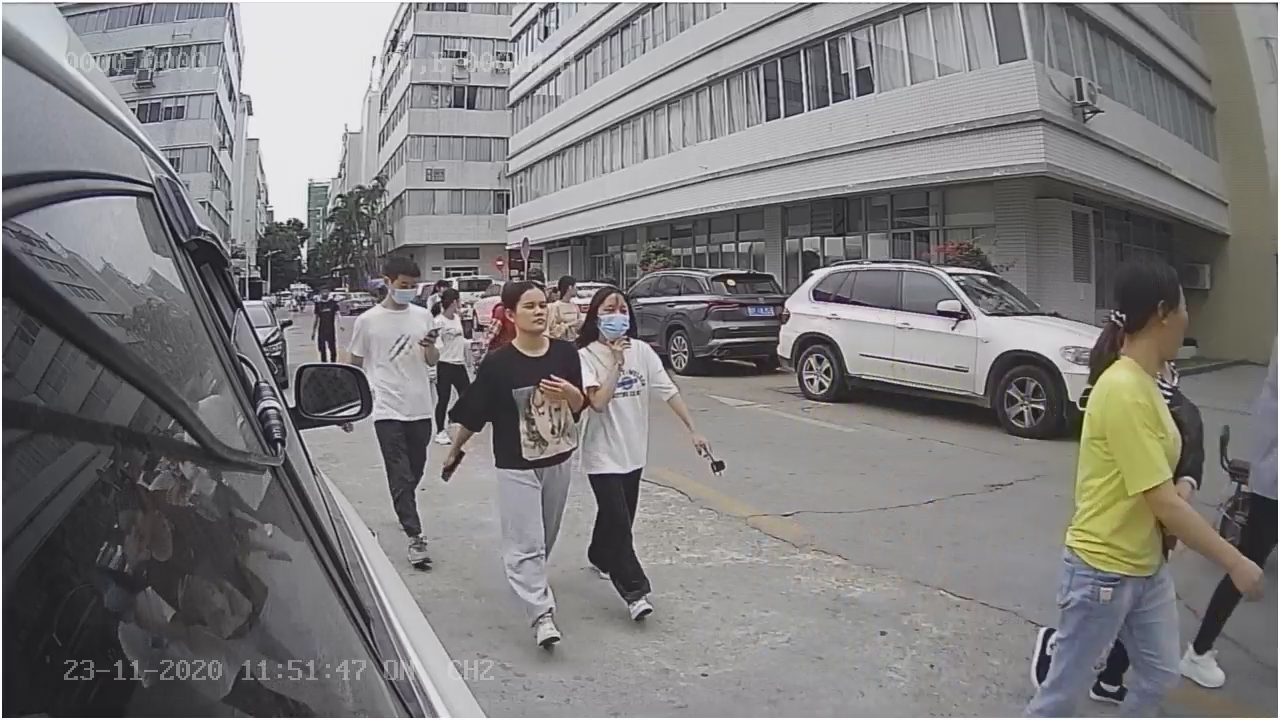person: (440, 282, 600, 656)
